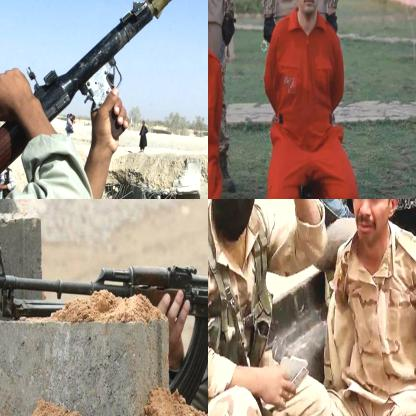rifle: (0, 0, 207, 198), (0, 241, 207, 415)
